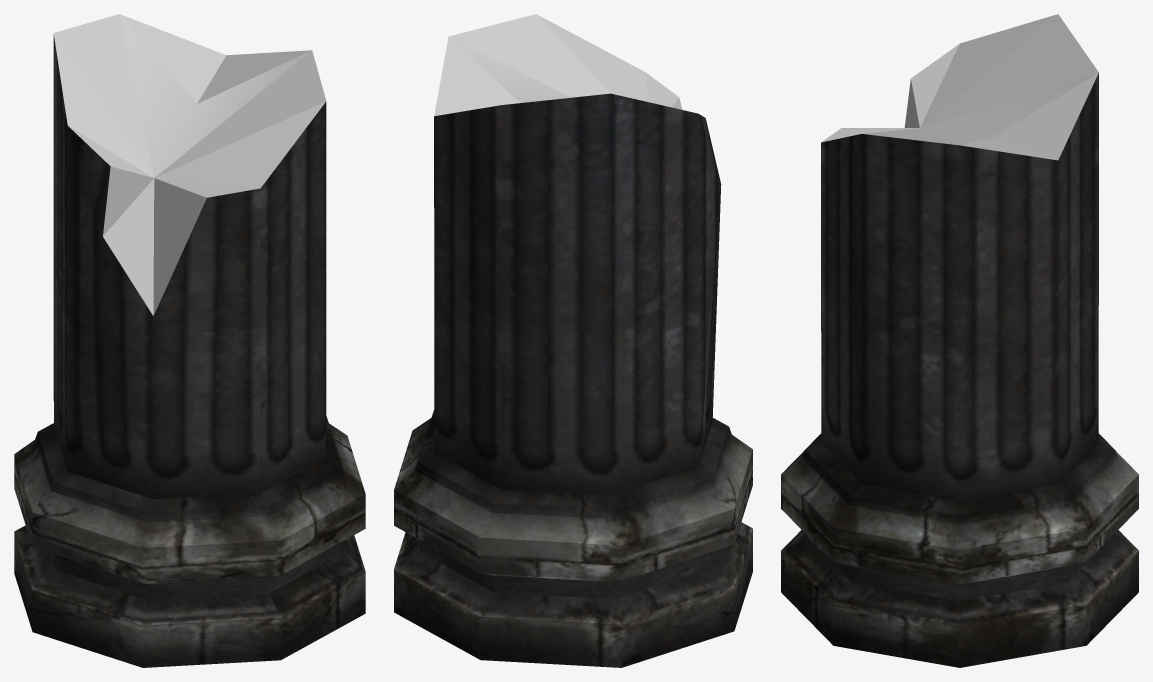
Rendered from roman_decayed1.dae.
The picture shows the model from 3 angles, left to right: view 1: azimuth 30°, elevation 25°; view 2: azimuth 150°, elevation 25°; view 3: azimuth 270°, elevation 25°; orthographic projection. The views are drawn at different scales.
Visible parts, largest first — view 1: polySurface4, polySurface2; view 2: polySurface4, polySurface2; view 3: polySurface4, polySurface2.
Part boxes in pixels (x1,y1,x2,y2): polySurface4: (14,34,365,667); polySurface2: (53,14,326,315); polySurface4: (394,93,752,667); polySurface2: (434,14,682,116); polySurface4: (781,73,1138,667); polySurface2: (822,14,1098,160).
Size of the model in its own units: 0.9859 by 1.63 by 0.9859.
